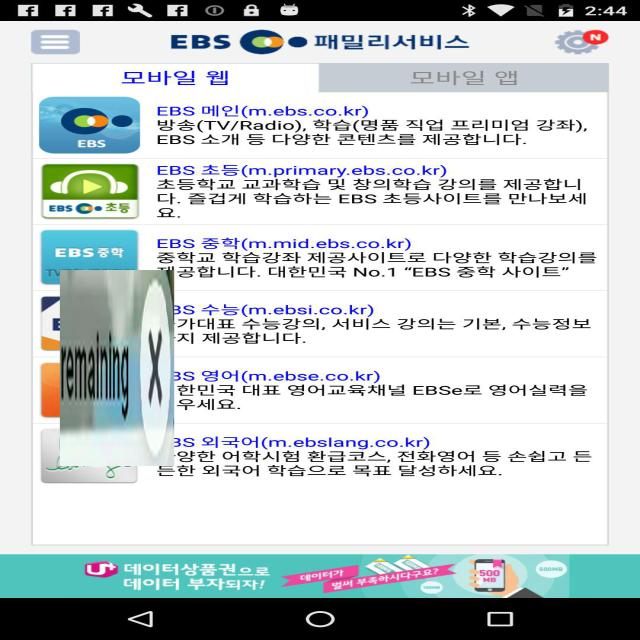misdirection: (60, 270, 174, 466)
